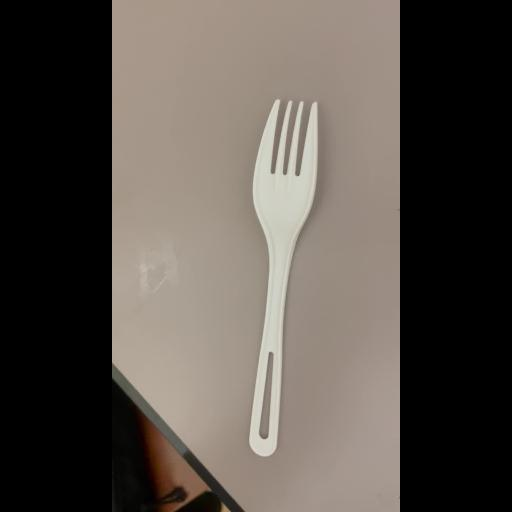utensil: (242, 96, 320, 462)
